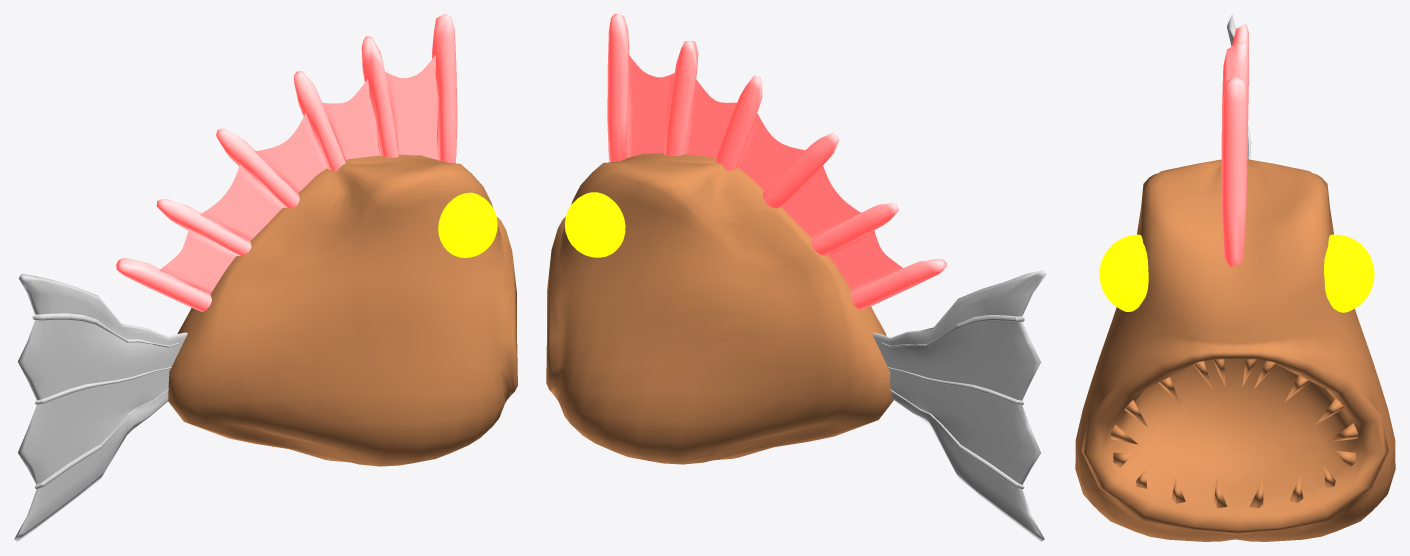
The model's file is pirahna.fbx.
3 views of the same model, side by side, from view 1: azimuth 30°, elevation 25°; view 2: azimuth 150°, elevation 25°; view 3: azimuth 270°, elevation 25° (orthographic). The views are drawn at different scales.
Visible parts, largest first — view 1: fish.001, upper fins, BACK FIN, Sphere; view 2: fish.001, upper fins, BACK FIN, Sphere.001; view 3: fish.001, upper fins, Sphere.001, Sphere.
Boxes of the visible parts, <box> form: fish.001: <box>168,154,517,466</box>; upper fins: <box>116,14,457,311</box>; BACK FIN: <box>14,273,187,541</box>; Sphere: <box>438,192,497,257</box>; fish.001: <box>546,153,893,464</box>; upper fins: <box>607,14,946,309</box>; BACK FIN: <box>872,270,1046,541</box>; Sphere.001: <box>565,192,625,257</box>; fish.001: <box>1075,159,1395,541</box>; upper fins: <box>1221,24,1248,266</box>; Sphere.001: <box>1324,234,1374,312</box>; Sphere: <box>1099,234,1148,311</box>.
Size of the model in its own units: 590 by 505 by 289.
